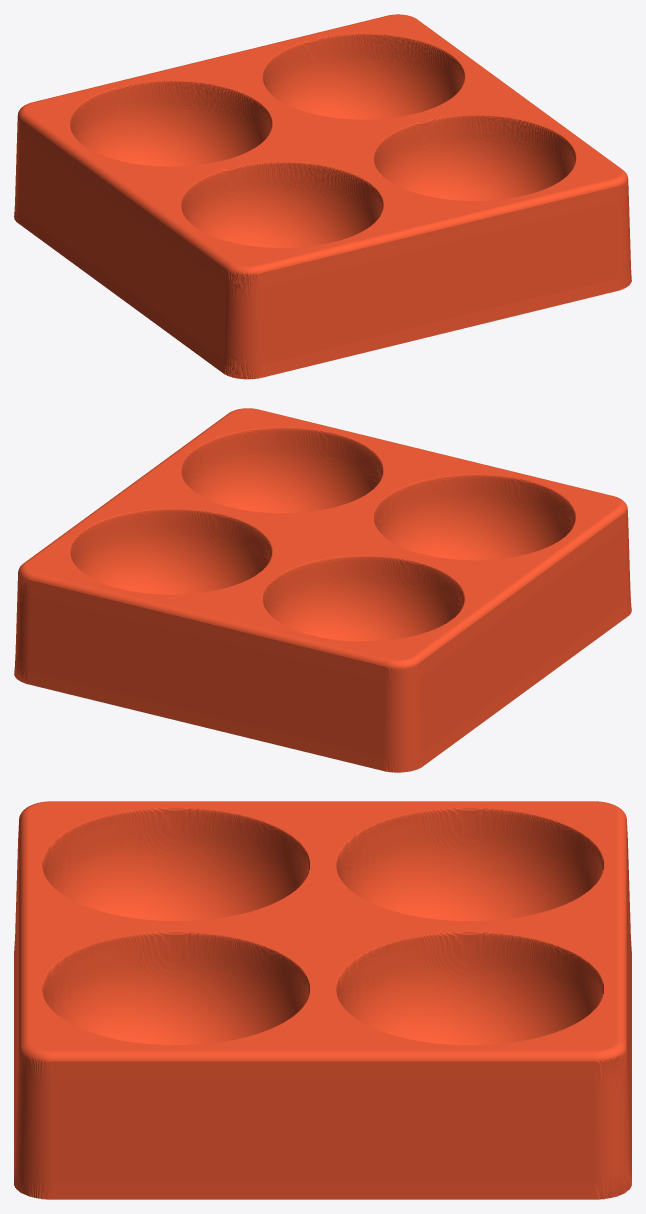
The model's file is mold.glb.
3 views of the same model, one above another, from view 1: azimuth 30°, elevation 25°; view 2: azimuth 150°, elevation 25°; view 3: azimuth 270°, elevation 25° (orthographic). The views are drawn at different scales.
Visible parts, largest first — view 1: geometry_0; view 2: geometry_0; view 3: geometry_0.
Boxes of the visible parts, x1,y1,x2,y2 form: geometry_0: [14, 14, 631, 379]; geometry_0: [14, 408, 631, 772]; geometry_0: [14, 801, 631, 1199].
Size of the model in its own units: 0.1482 by 0.0377 by 0.1482.
